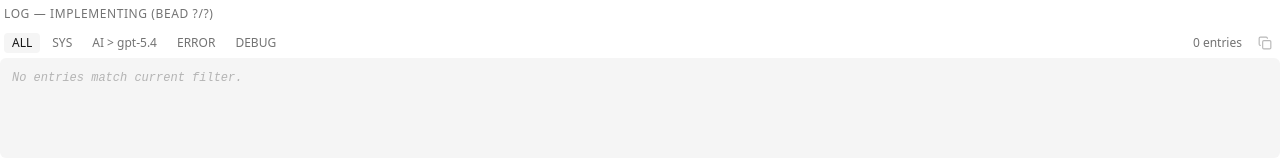
it: PhaseLogPanel › collapses single-model AI tabs into one combined AI model tab
Click the button "AI > gpt-5.4" at point(125, 43), box [84,33,165,53]
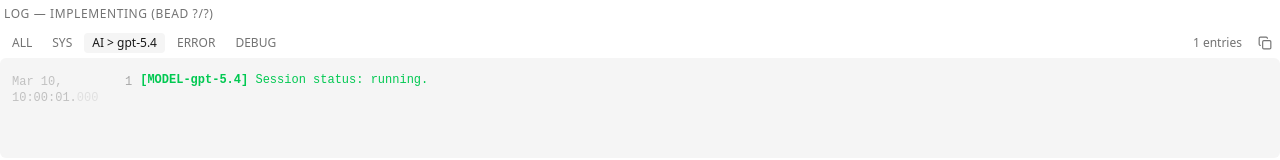
Result: the text "[MODEL-gpt-5.4] Session status: running." is shown at [140,73,428,87]
